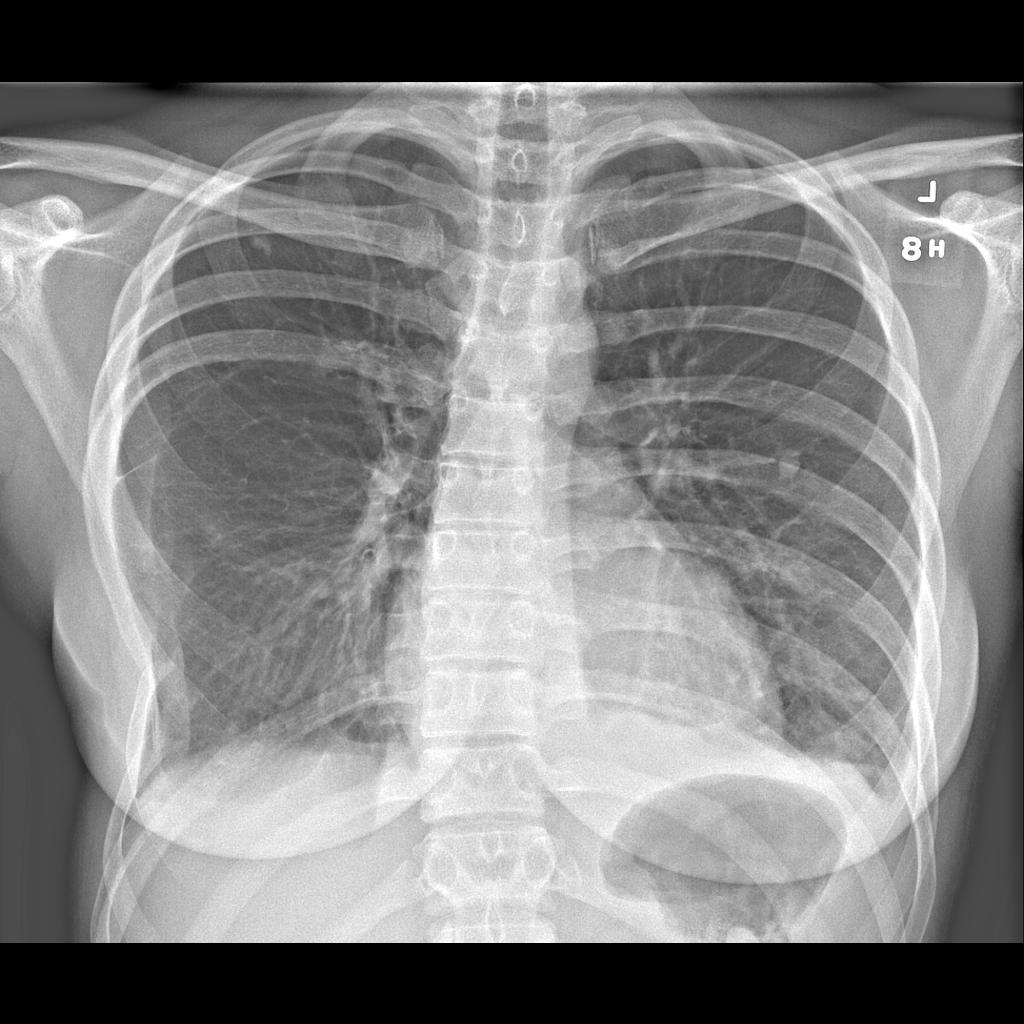Nodule: (779, 451, 807, 490)
